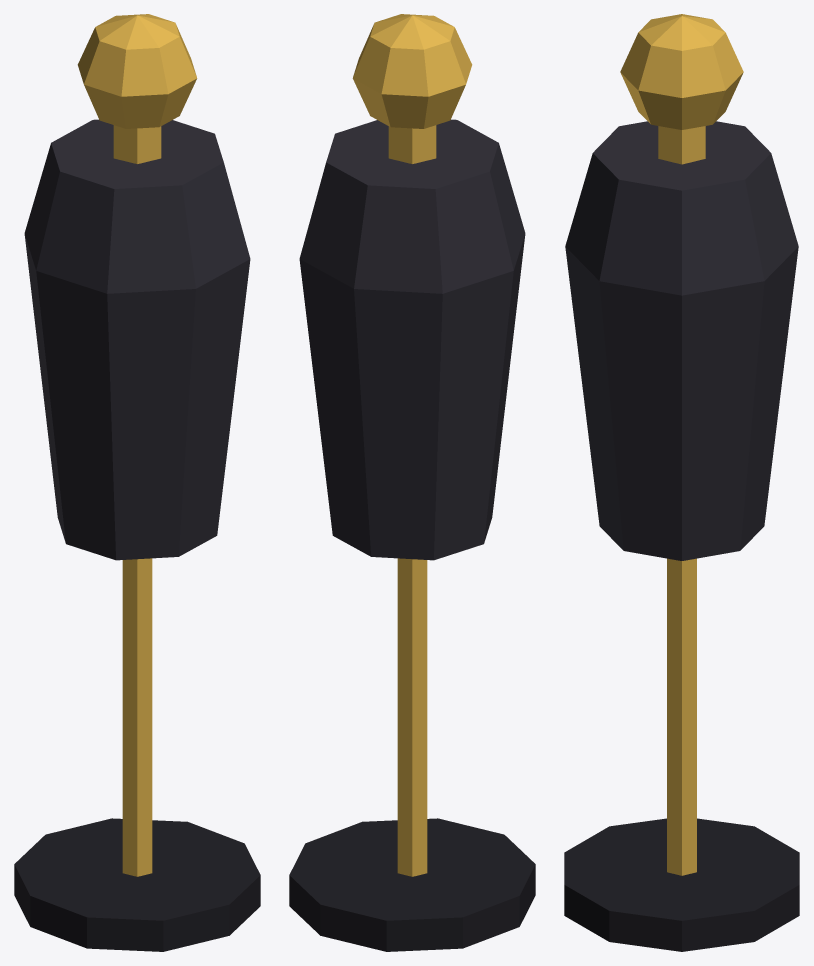
Rendered from b-mannequin.glb.
3 views of the same model, side by side, from view 1: azimuth 30°, elevation 25°; view 2: azimuth 150°, elevation 25°; view 3: azimuth 270°, elevation 25° (orthographic).
Parts seen in each view (by area): view 1: b-mannequin; view 2: b-mannequin; view 3: b-mannequin.
Part boxes in pixels (bbox=[...]): b-mannequin: bbox=[14, 14, 260, 951]; b-mannequin: bbox=[289, 14, 535, 951]; b-mannequin: bbox=[564, 14, 799, 951].
Bounding box in the file's own units: 0.36 × 1.42 × 0.3424.
